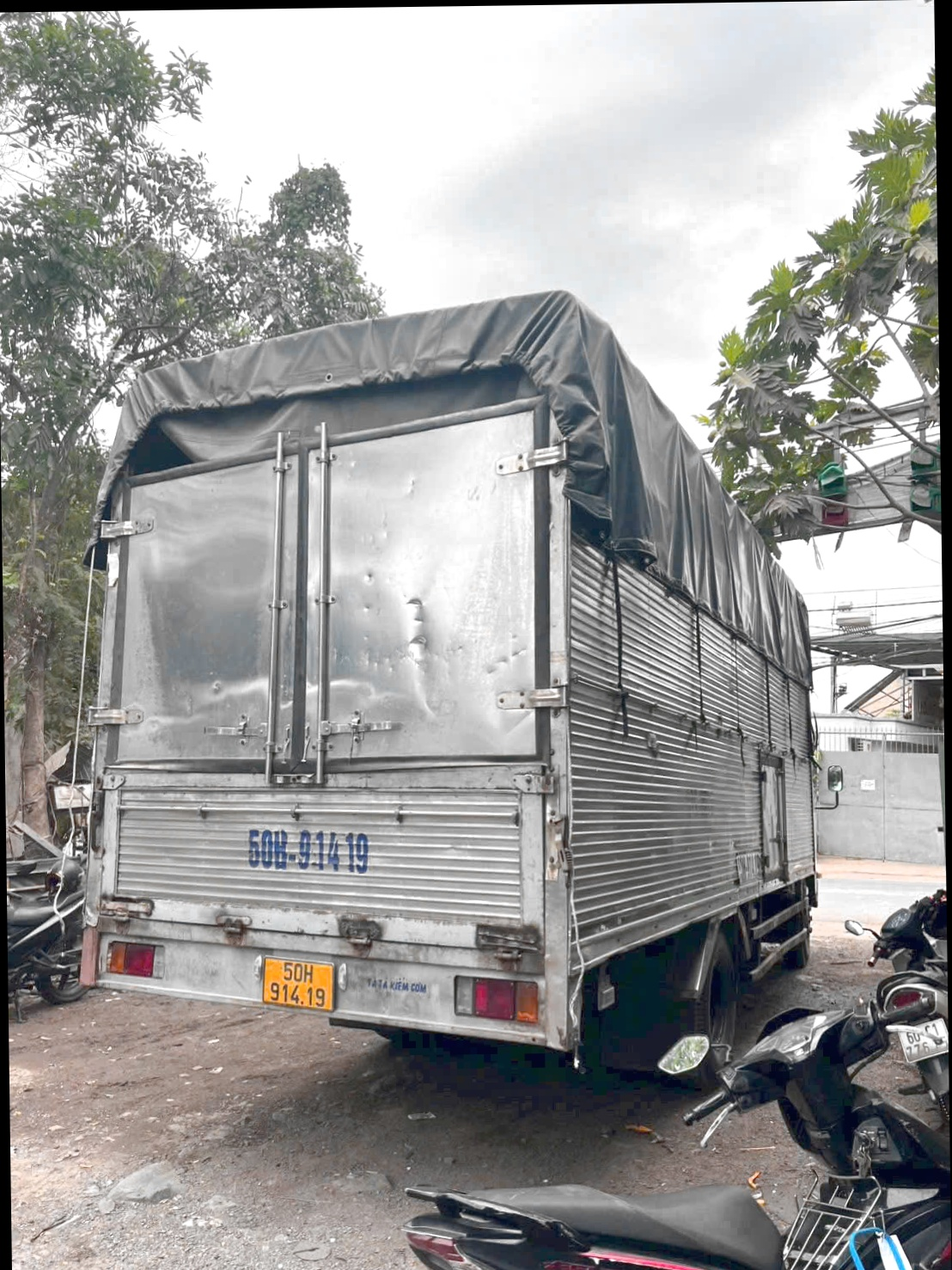Bien-so: (244, 916, 333, 977), (874, 1025, 934, 1072)
